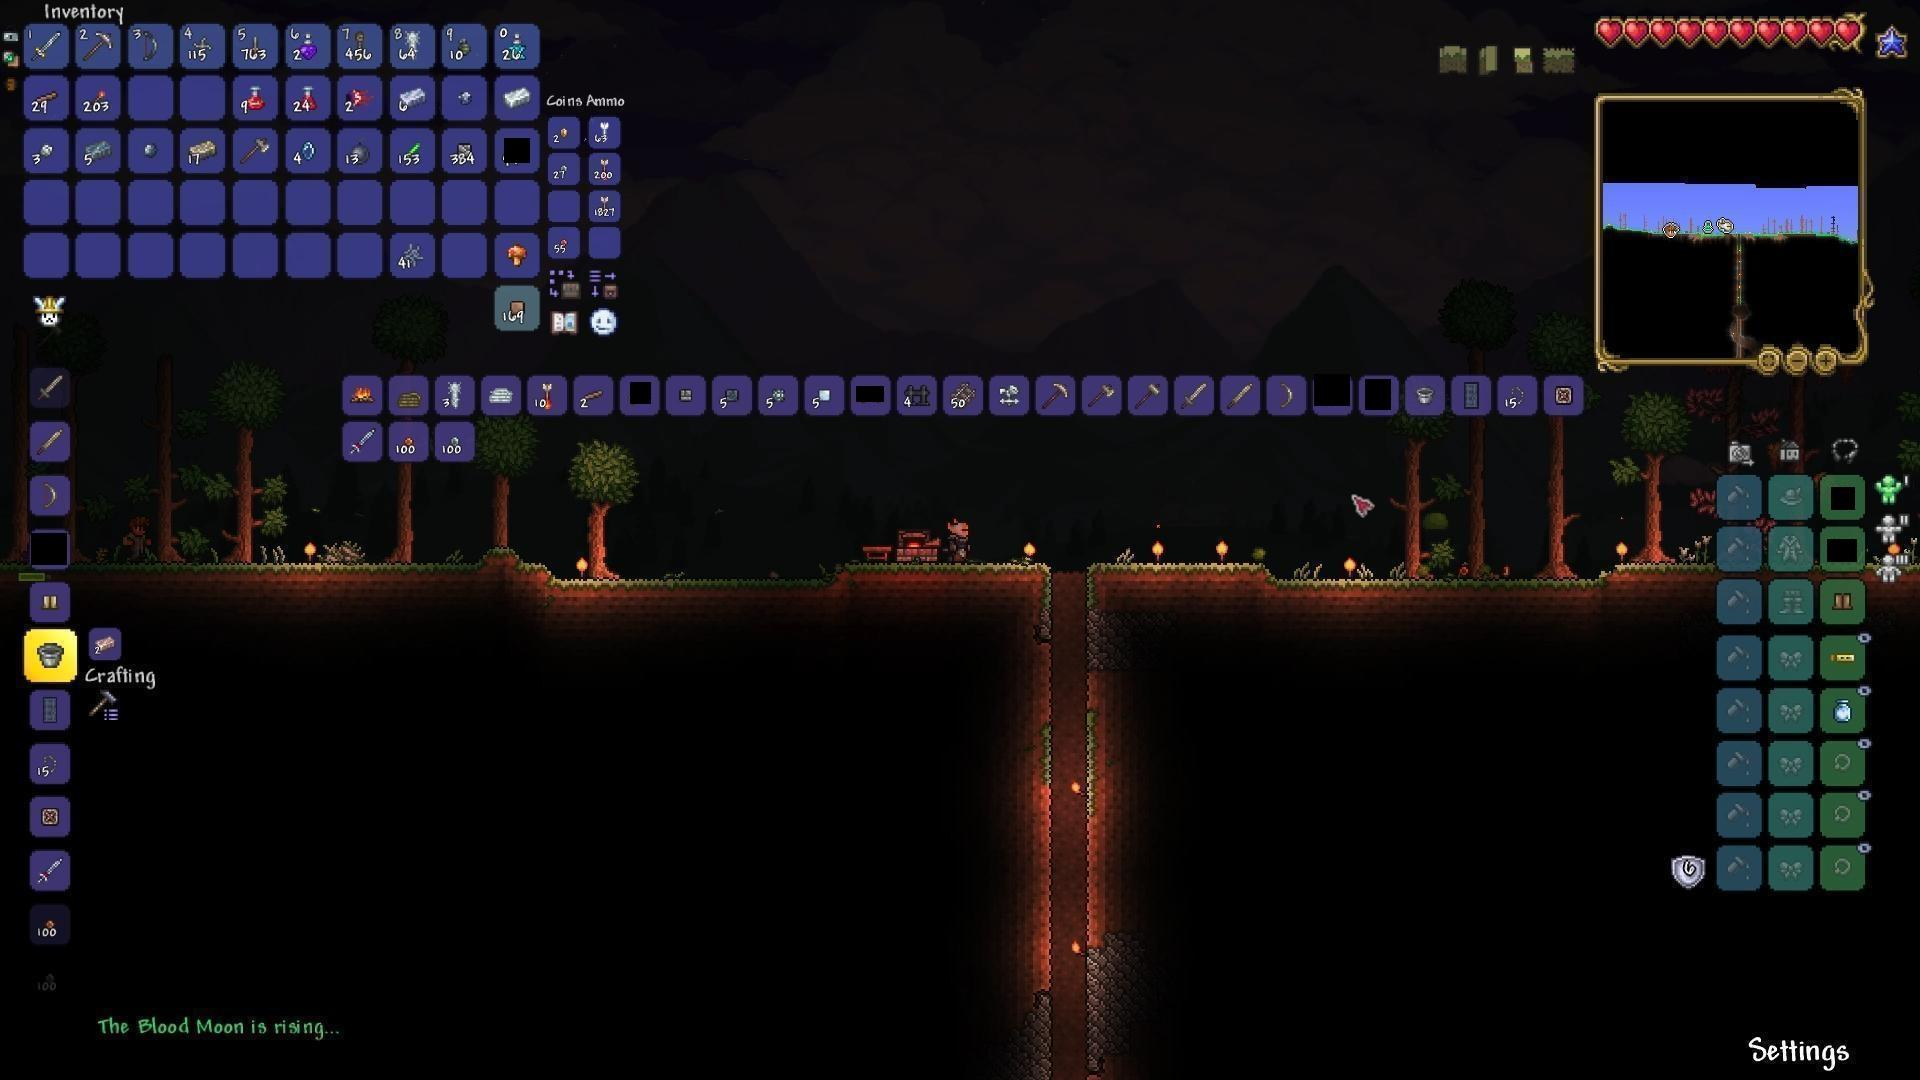legs: (38, 589, 63, 618), (1832, 589, 1859, 615)
workbench: (858, 538, 894, 566)
